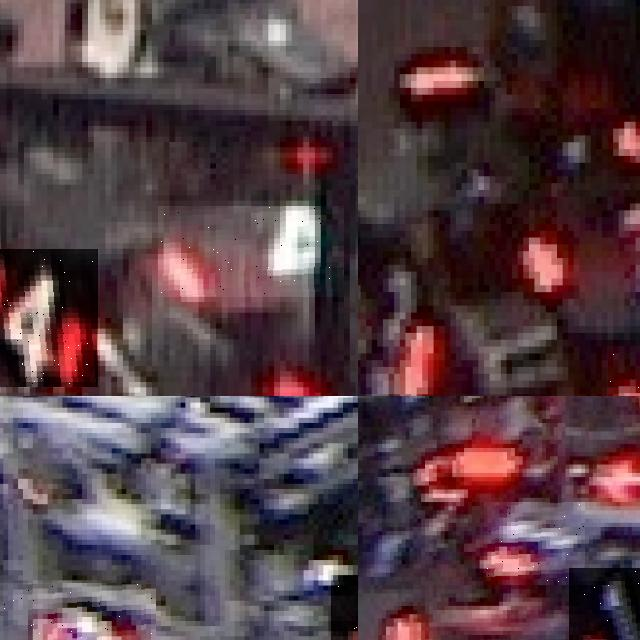R1: (484, 502, 585, 585), (569, 568, 640, 640)
R2: (0, 583, 155, 640)
R4: (158, 206, 344, 297), (0, 248, 99, 387)
